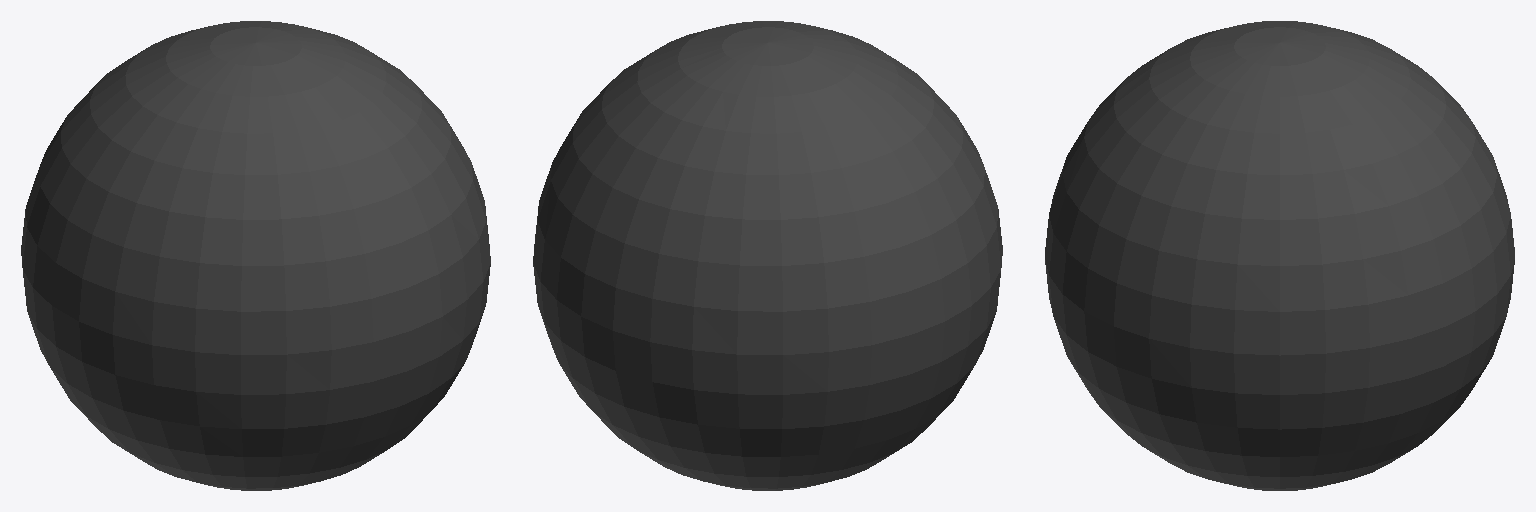
Rendered from cannonball.obj.
3 renders of one model, left to right at view 1: azimuth 30°, elevation 25°; view 2: azimuth 150°, elevation 25°; view 3: azimuth 270°, elevation 25°, orthographic.
Parts seen in each view (by area): view 1: Sphere001; view 2: Sphere001; view 3: Sphere001.
Boxes of the visible parts, <box> form: Sphere001: <box>21,21,490,490</box>; Sphere001: <box>533,21,1002,490</box>; Sphere001: <box>1045,21,1514,490</box>.
Bounding box in the file's own units: 1 × 1 × 1.